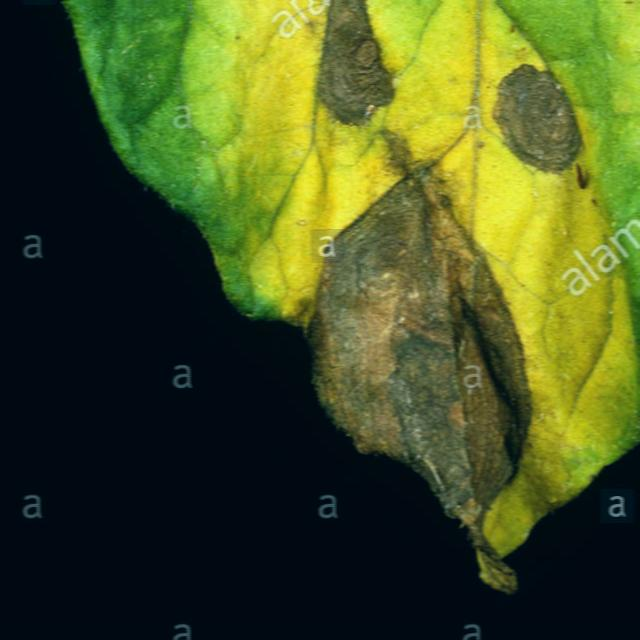Tomato Early blight leaf: (14, 0, 640, 597)
